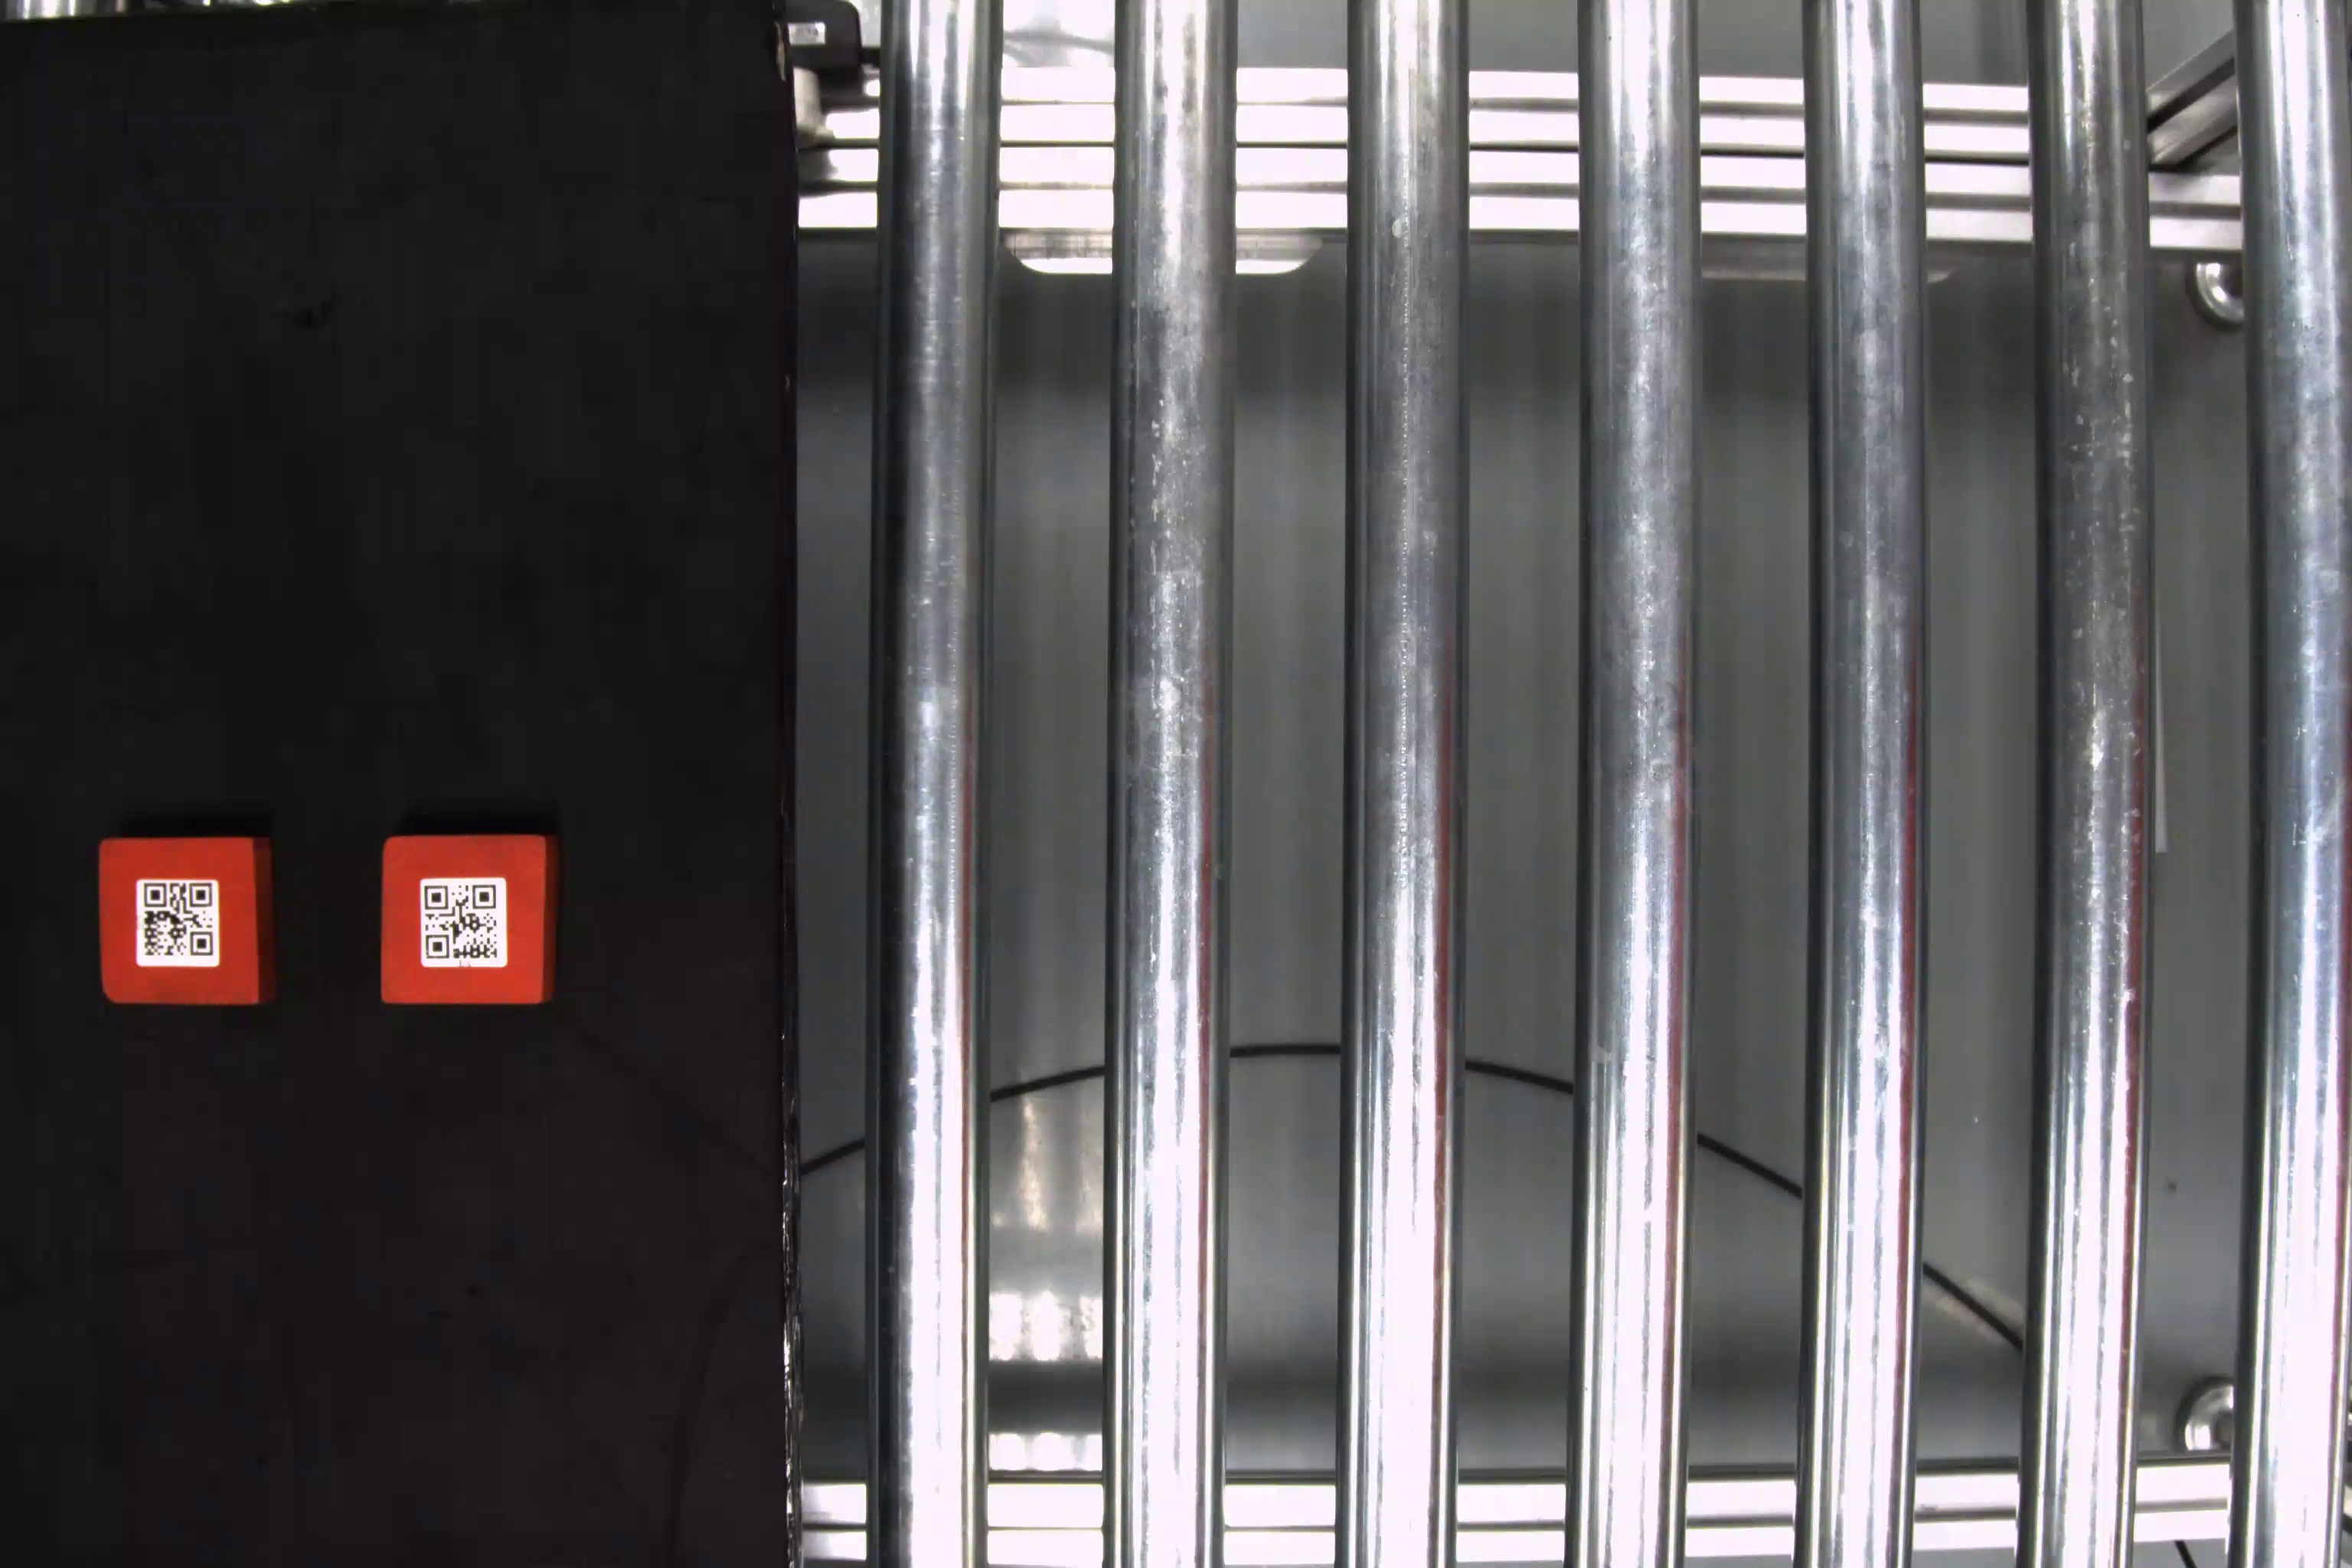wood: (94, 833, 282, 1015), (380, 826, 562, 1006)
